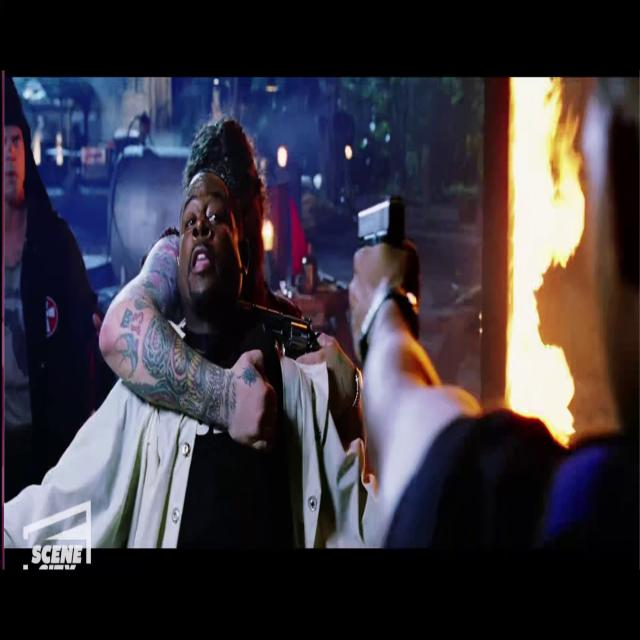weapons: (345, 178, 428, 346)
